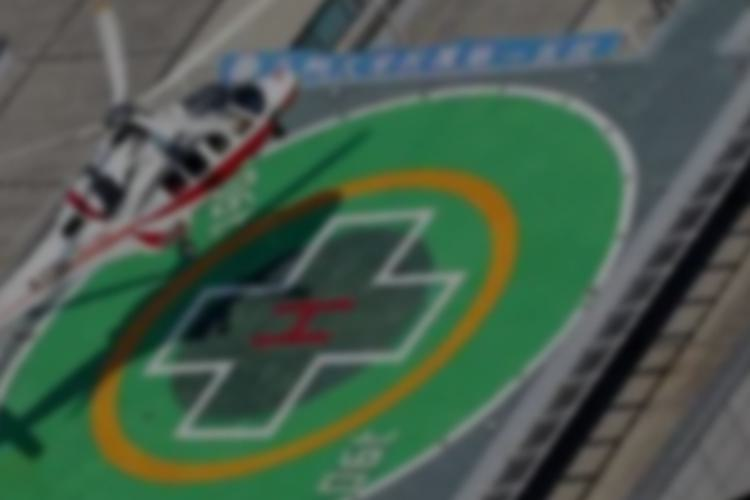Apron: (76, 188, 514, 436)
